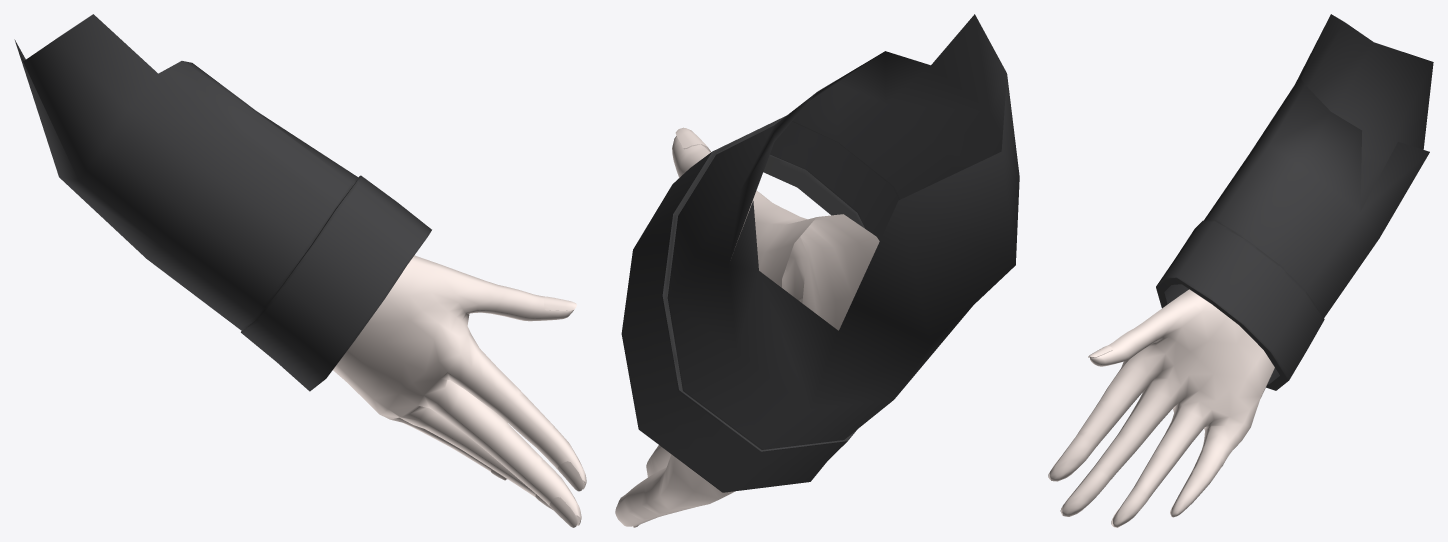
The model's file is RyoPick.obj.
3 views of the same model, side by side, from view 1: azimuth 30°, elevation 25°; view 2: azimuth 150°, elevation 25°; view 3: azimuth 270°, elevation 25° (orthographic). The views are drawn at different scales.
Bounding box in the file's own units: 0.2736 × 0.3307 × 0.2996.
Materials: 2 (2 with a texture image).
